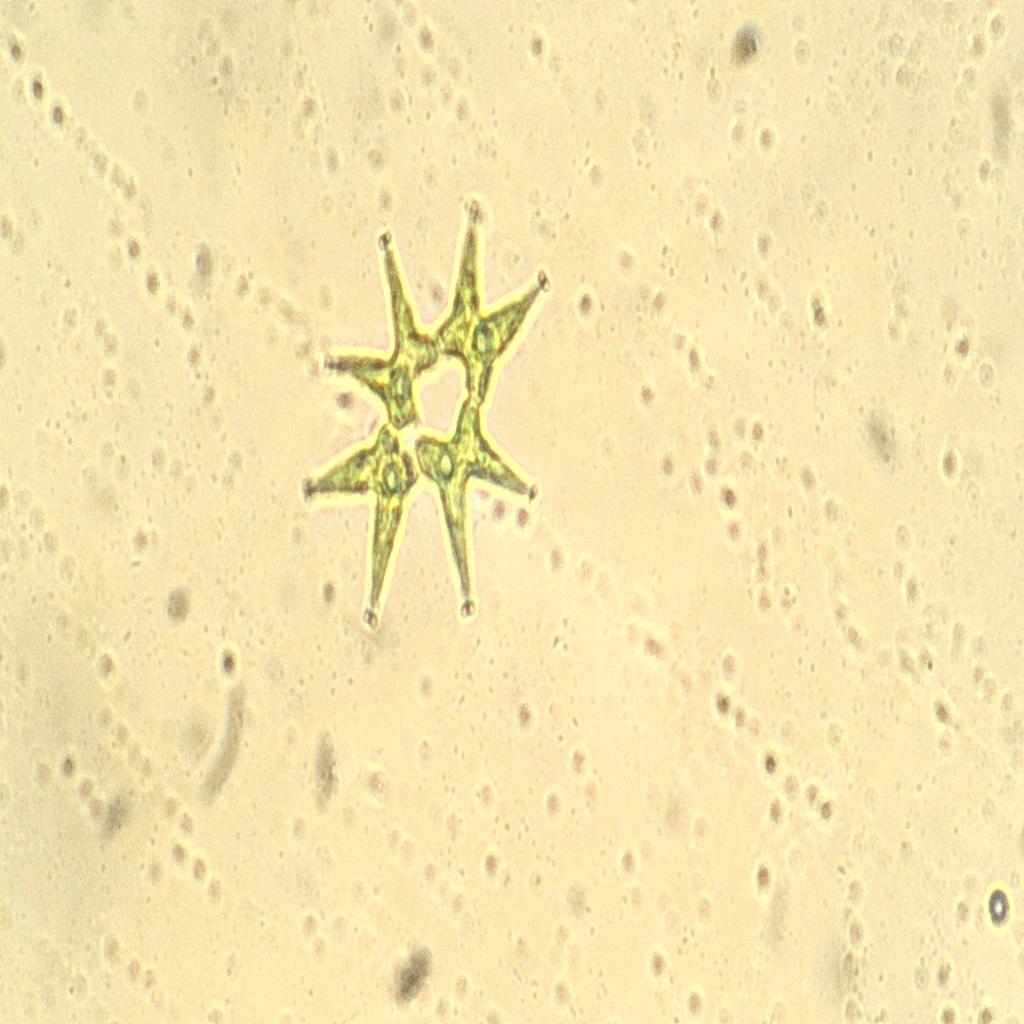Pediastrum_75FO: (297, 184, 560, 648)
